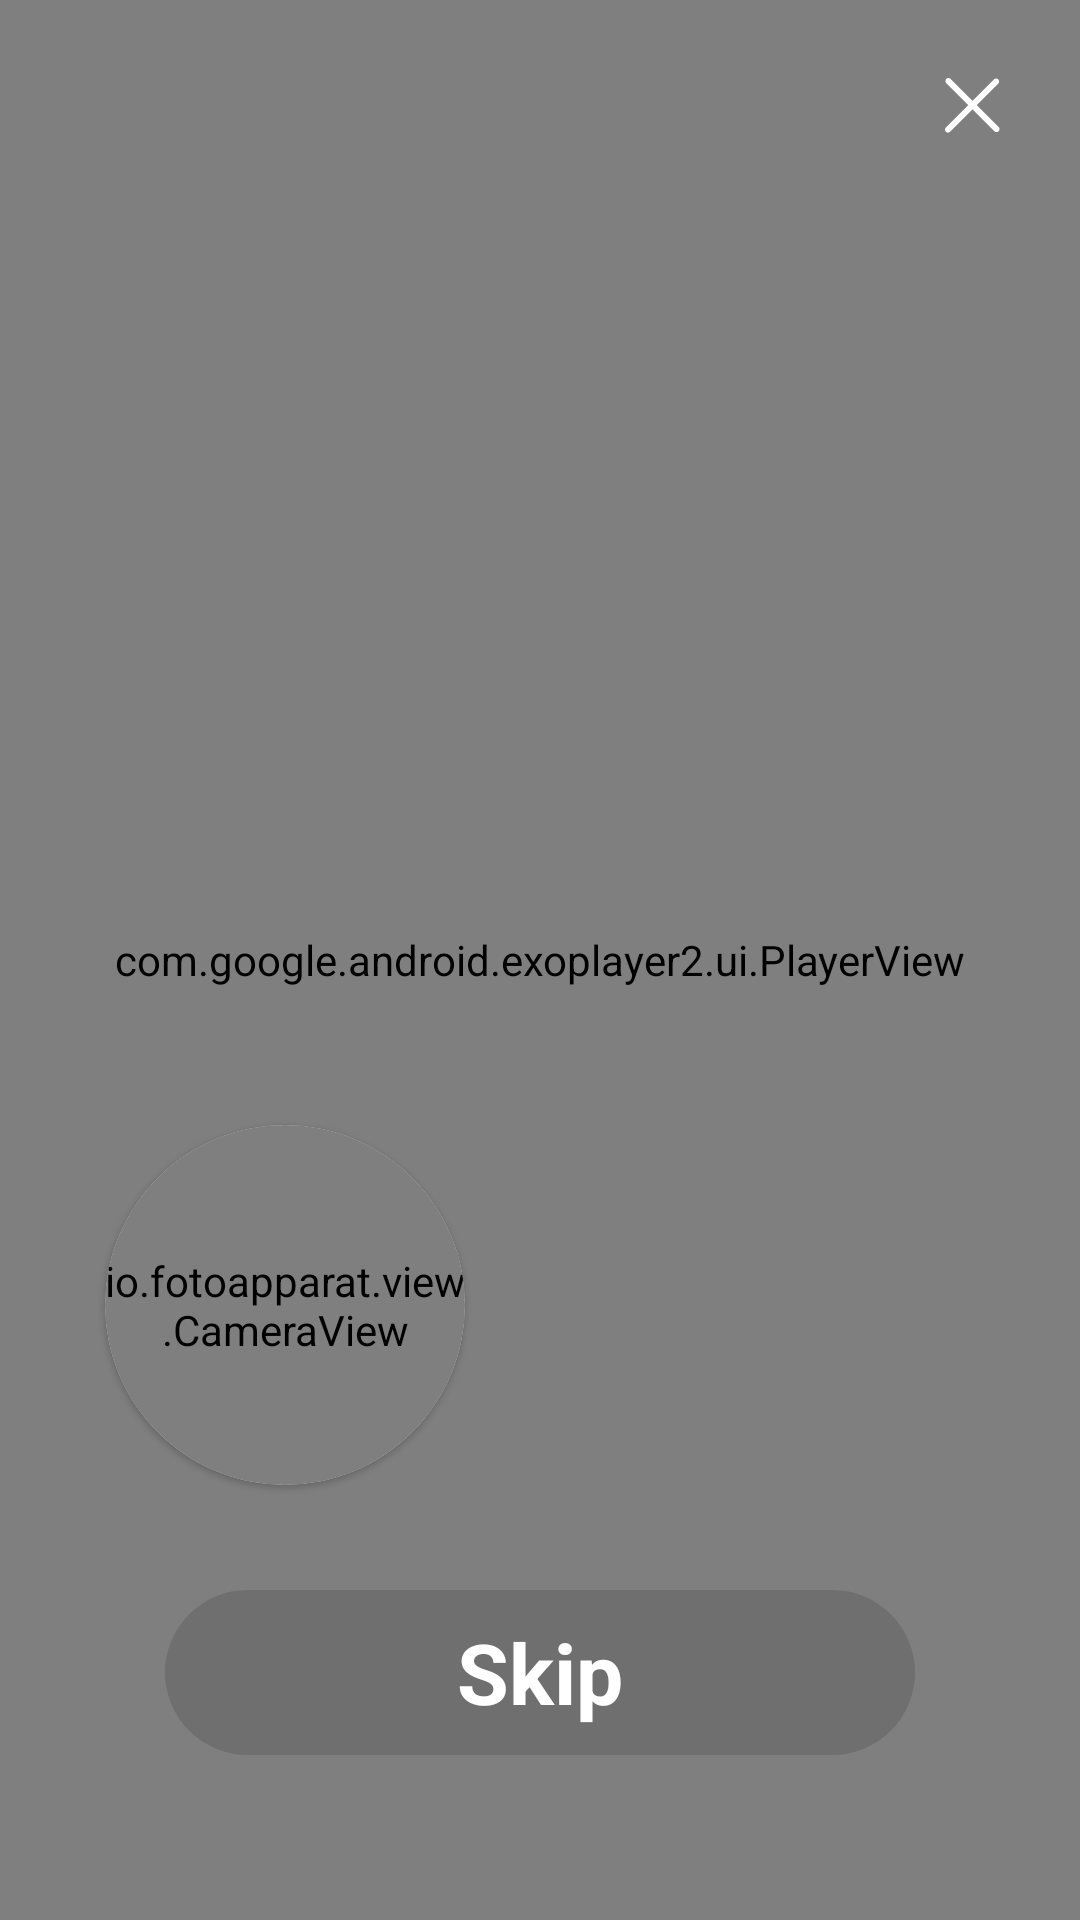

Icon click points for this 1080×1920 phone screenshot, format (x=x, y=y):
close: (x=972, y=105)
